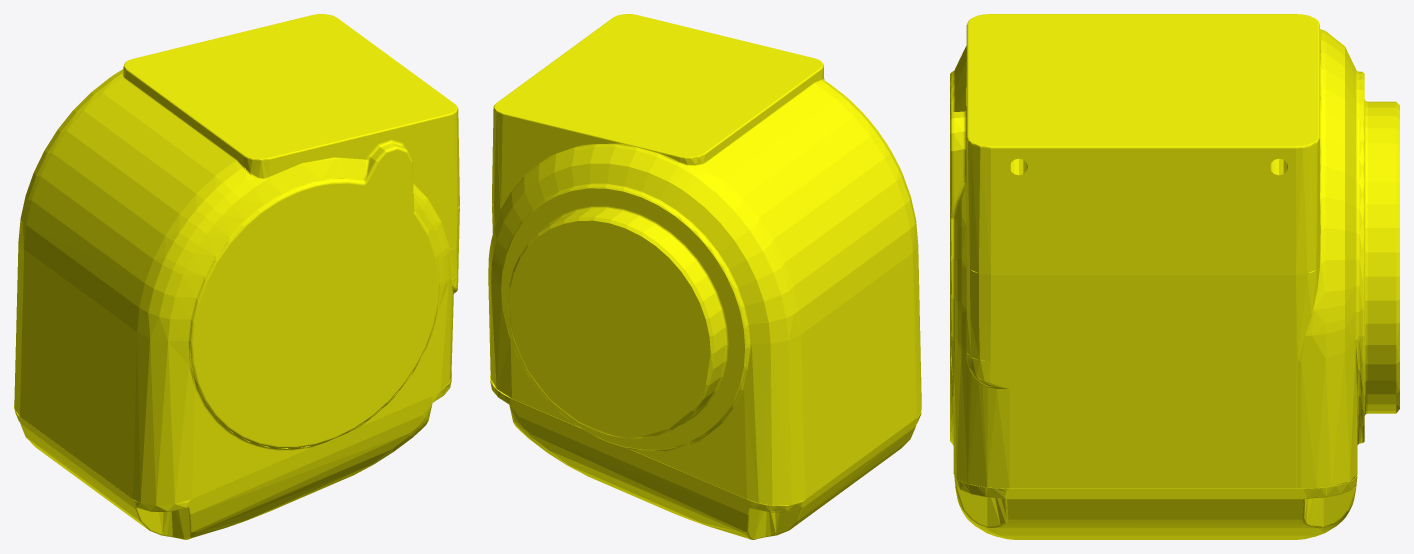
3 renders of one model, left to right at view 1: azimuth 30°, elevation 25°; view 2: azimuth 150°, elevation 25°; view 3: azimuth 270°, elevation 25°, orthographic. The views are drawn at different scales.
Parts seen in each view (by area): view 1: node; view 2: node; view 3: node.
Part boxes in pixels (x1,y1,x2,y2): node: (14,14,459,539); node: (488,14,921,539); node: (950,14,1399,539).
Size of the model in its own units: 127 by 142 by 121.
